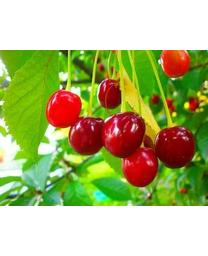cherry: (102, 111, 145, 157), (153, 126, 197, 169), (68, 118, 107, 156), (122, 147, 158, 188), (46, 89, 81, 129), (97, 79, 123, 109)
